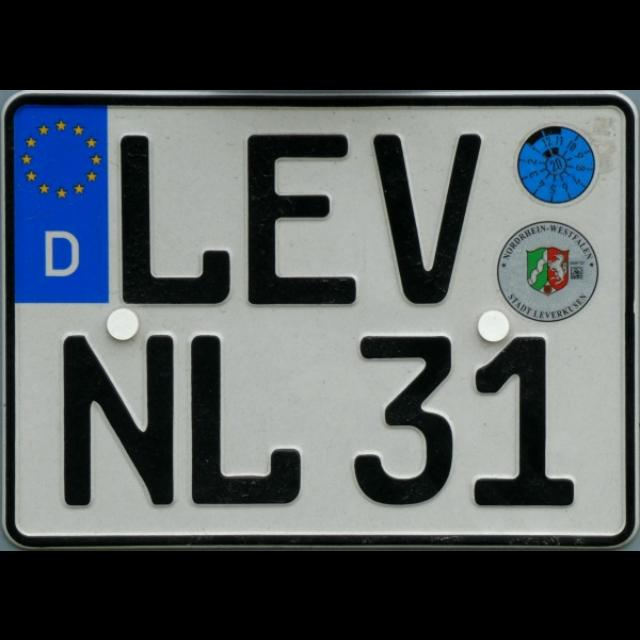d_license_plate: (7, 94, 629, 540)
